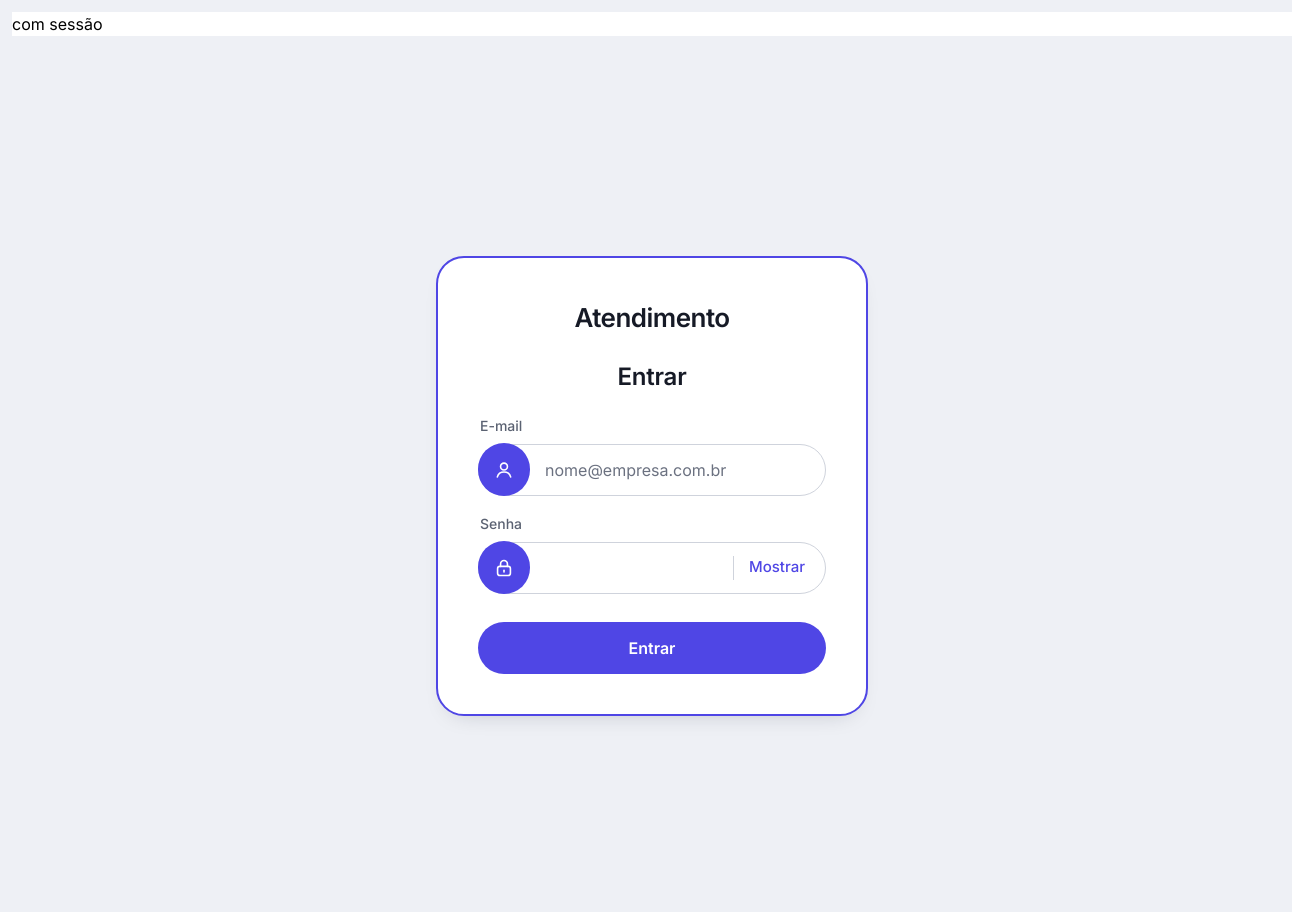
Test: errar a senha no /login com uma sessão aberta › mostra "E-mail ou senha incorretos." e a sessão aberta continua
The image size is (1292, 912).
Type "ana@exemplo.test" into the field labelled "E-mail" at x=685, y=470, box [545,445,825,495]
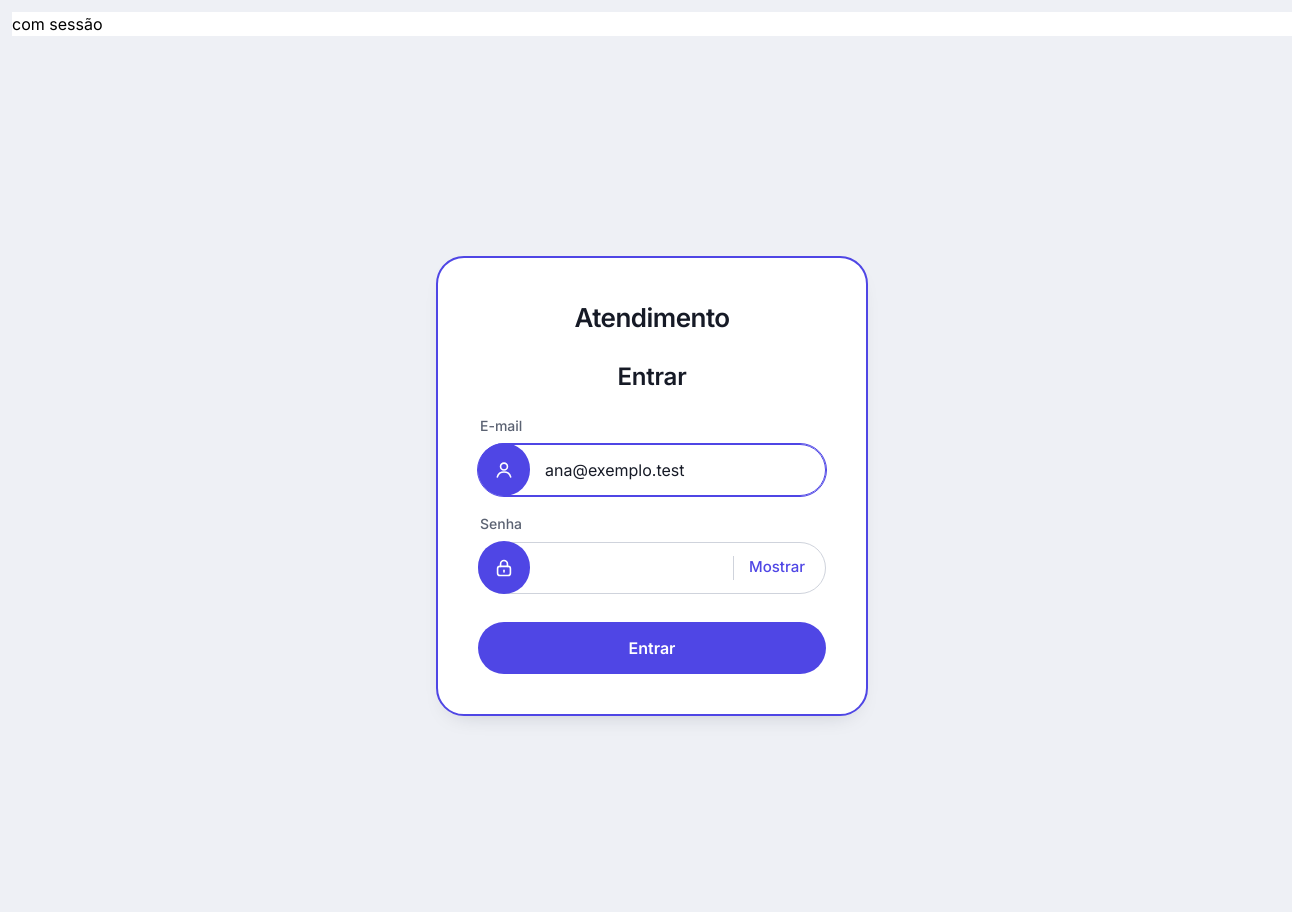
Type "errada123" into the password field labelled "Senha" at x=639, y=568, box [545,543,733,593]
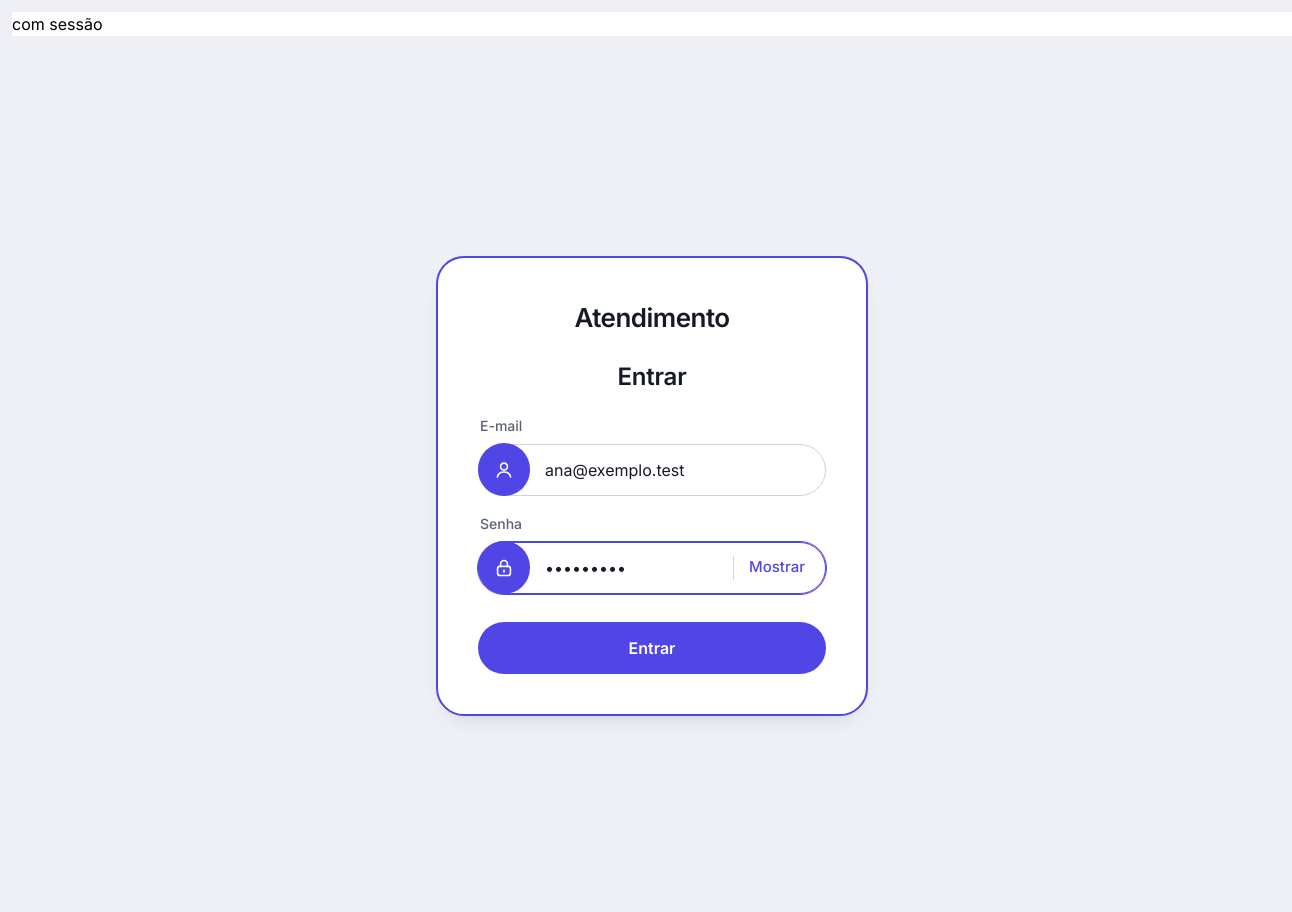
Click the button "Entrar" at x=652, y=648, box [478,622,826,674]
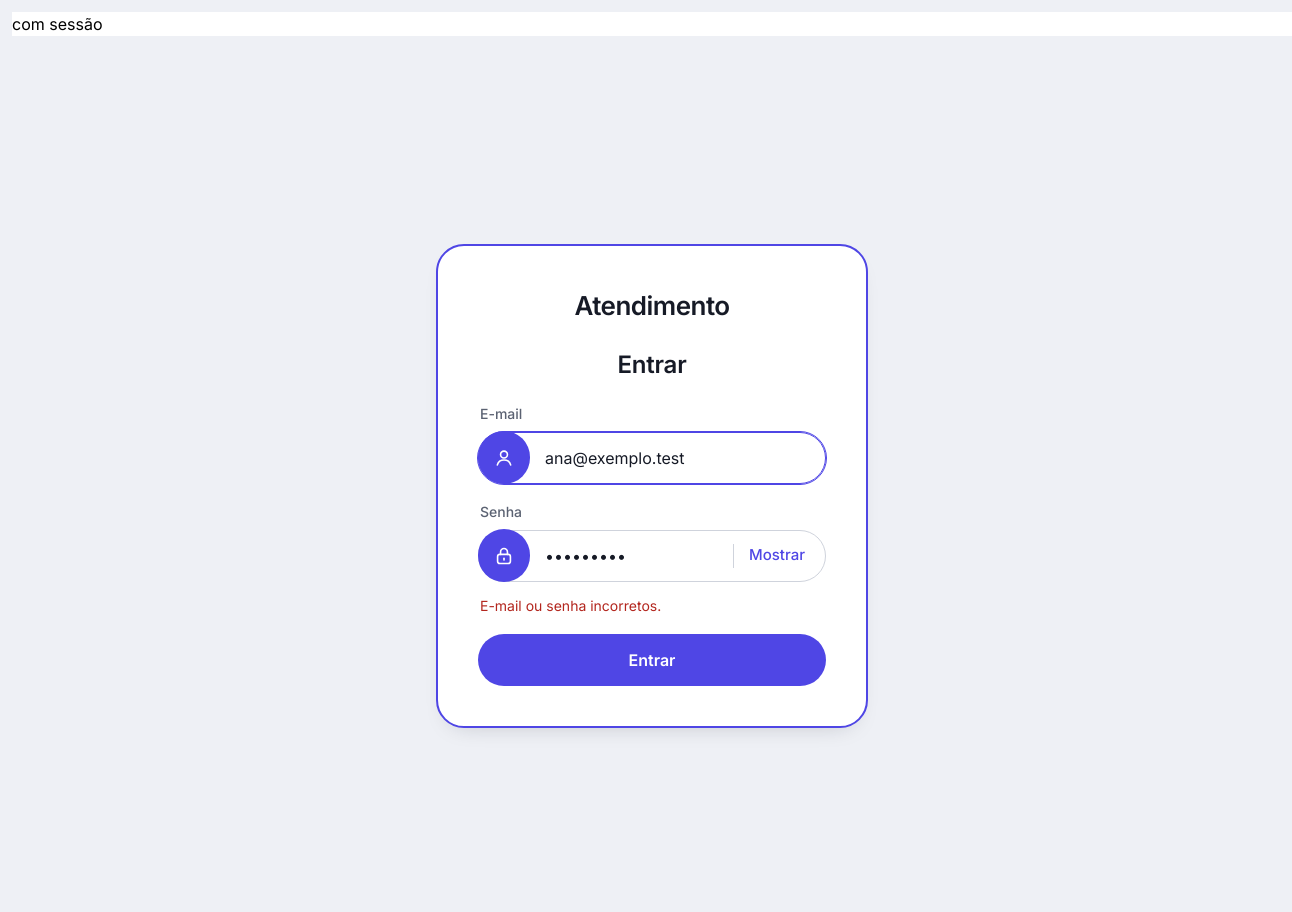
Expected: the text with test id "sessao" reads "com sessão", [12,14,102,34]
Result: the text "E-mail ou senha incorretos." is shown at [480,597,661,614]
